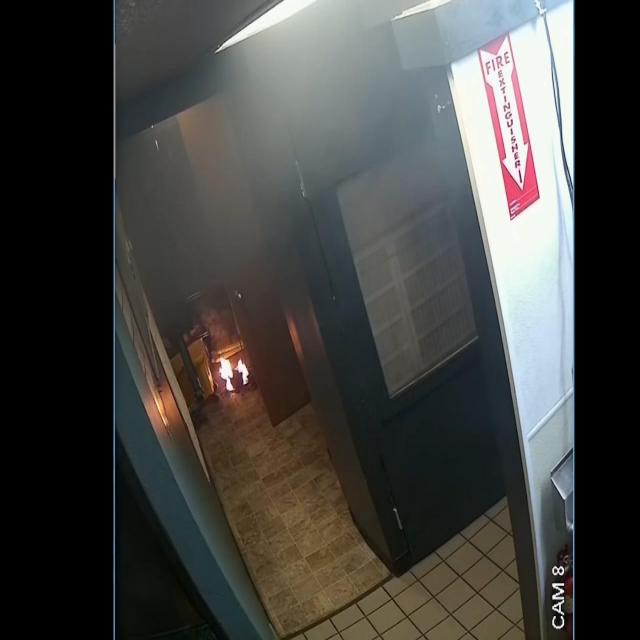fire: (219, 358, 233, 390), (234, 358, 248, 384)
